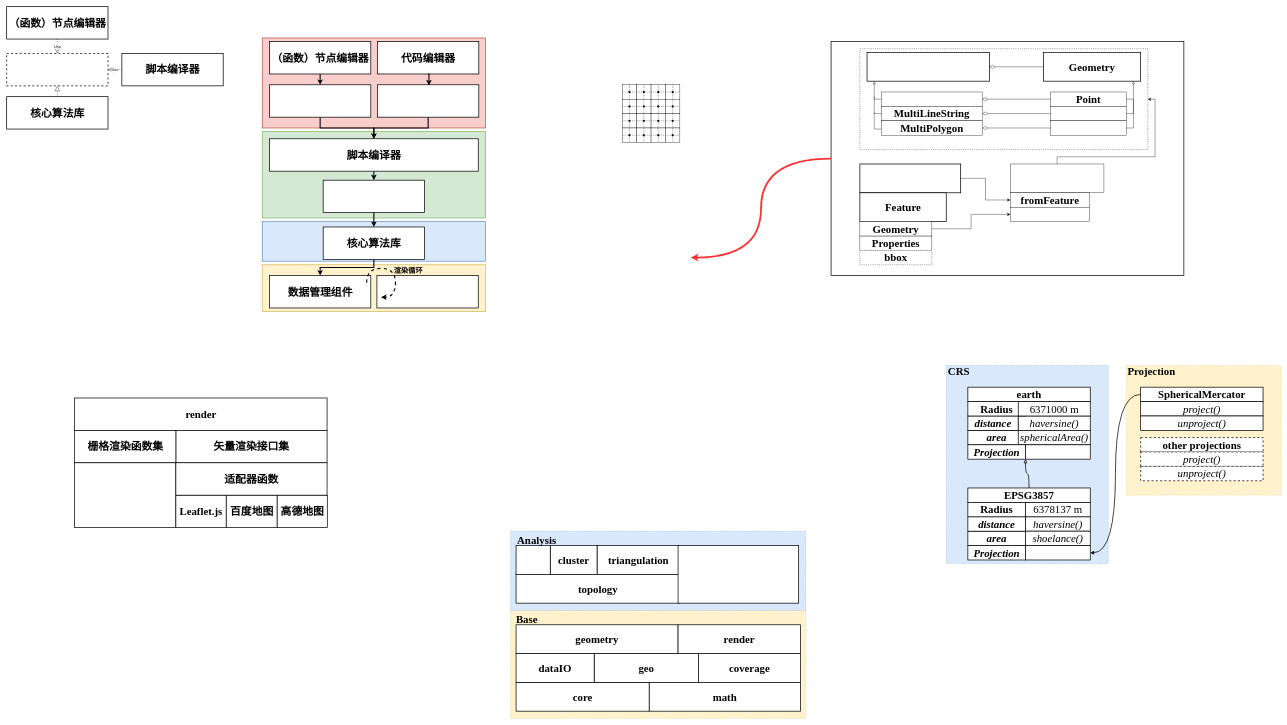
Some shapes in this 1287 by 725 pixel diagram are drawn without their labels. The shapes that lost their labels are listed below. From the top down, each one's centre as x and y in pixels, then its label:
point 57,69: （函数）节点接口
point 928,66: GeometryCollection
point 320,100: 节点脚本
point 428,100: 用户代码脚本
point 931,99: MultiPoint
point 1088,113: LineString
point 1088,127: Polygon
point 374,196: 可运行代码
point 910,178: GeoJSON
point 1057,178: Factory
point 1050,214: fromGeometry
point 427,291: 交互式地图组件
point 1057,451: null
point 125,495: 2D Canvas
point 533,560: net
point 1057,552: f()
point 738,574: coverage analysis
